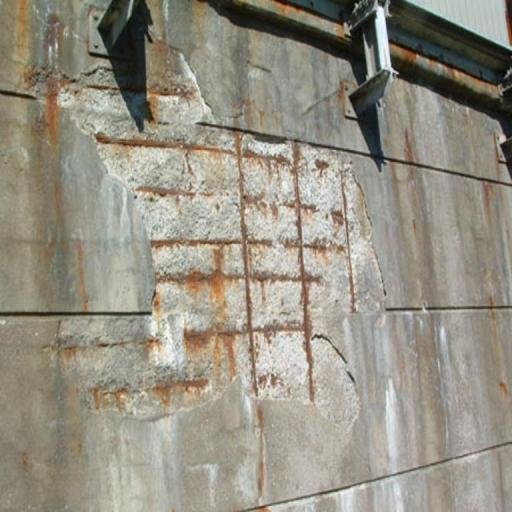spalling: (56, 44, 381, 423)
